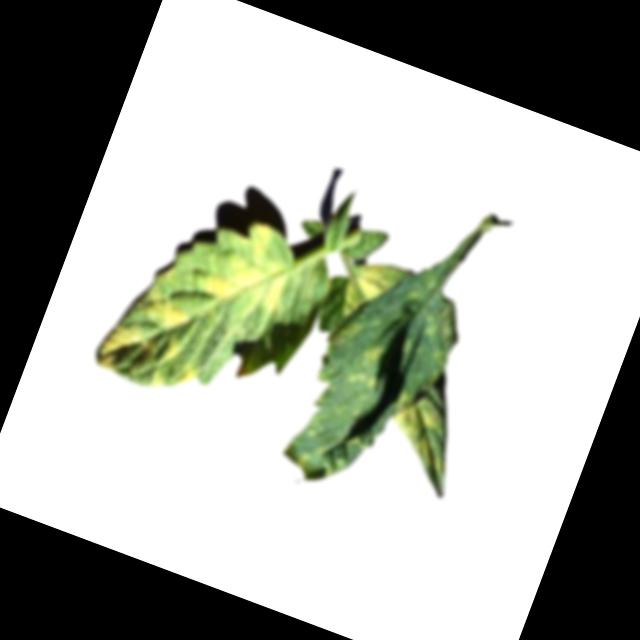Leaf_Mold: (198, 210, 308, 321), (383, 394, 448, 465), (94, 314, 156, 384), (129, 283, 197, 336), (344, 253, 401, 313), (343, 338, 389, 396), (174, 363, 200, 394)
